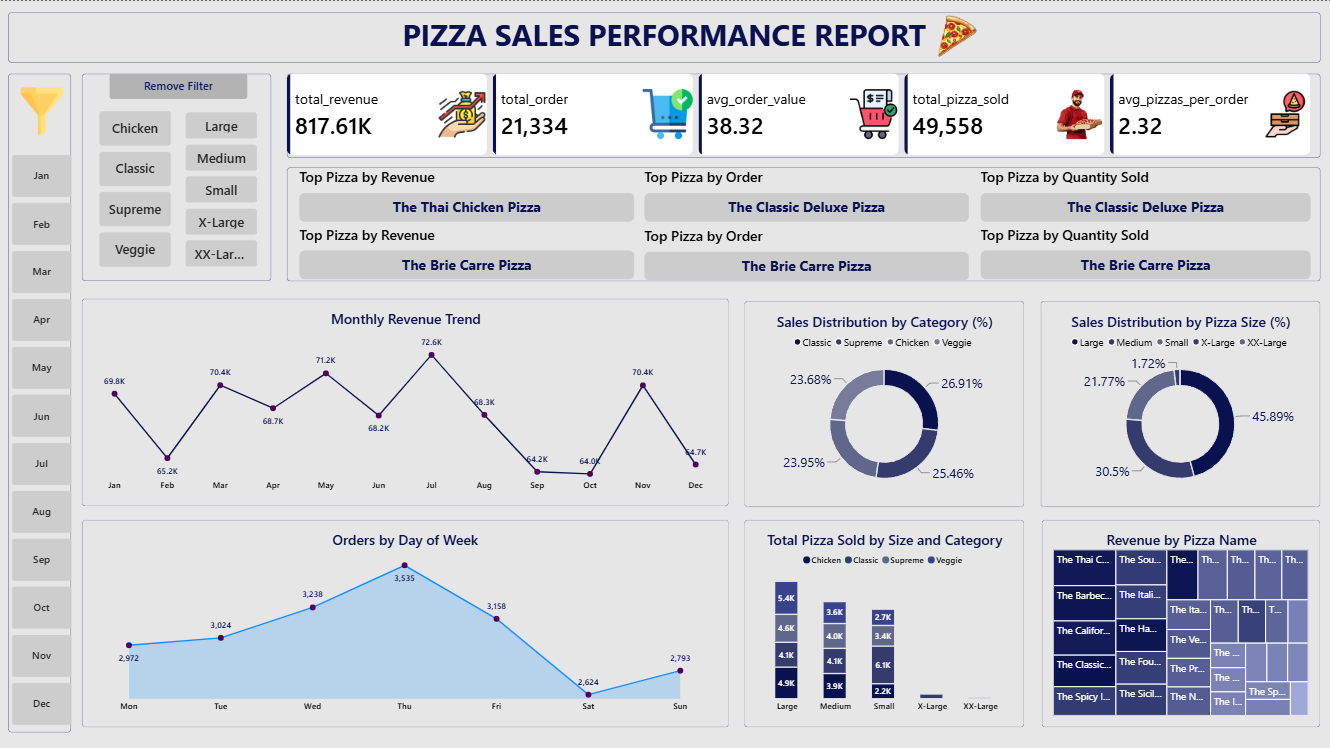

What the dashboard file says about the page in this screenshot:
{"tool":"powerbi","page":{"name":"Dashboard","canvas":[1920,1080],"ordinal":0},"visuals":[{"type":"shape","box":[416.7,238.3,1486.7,176.8],"z":0},{"type":"shape","box":[1499.8,430.7,402.5,296.5],"z":1000},{"type":"shape","box":[416,104.5,1486.9,121.6],"z":2000},{"type":"cardVisual","fields":{"Data":["pizza_salse.total_revenue","pizza_salse.total_order","pizza_salse.avg_order_value","pizza_salse.total_pizza_sold","pizza_salse.avg_pizzas_per_order"]},"box":[416.7,104.5,1486.7,121.5],"z":3000},{"type":"shape","box":[14.9,17.1,1888,72.5],"z":4000},{"type":"shape","box":[15.1,103.9,90.9,947.9],"z":5000},{"type":"shape","box":[121.2,103.9,272.7,298.7],"z":6000},{"type":"shape","box":[121.2,428.5,930.6,298.7],"z":7000},{"type":"shape","box":[124.5,753.4,930.2,298.3],"z":8000},{"type":"shape","box":[1073.4,430.7,402.5,296.5],"z":9000},{"type":"shape","box":[1073.2,751.8,402.8,298.3],"z":10000},{"type":"shape","box":[1502.1,753.4,399.7,299.8],"z":11000},{"type":"lineChart","title":"Monthly Revenue Trend","fields":{"Y":["pizza_salse.total_revenue"],"Category":["pizza_salse.Month Name"]},"box":[129.1,438.2,914.8,278.3],"z":12000},{"type":"lineChart","title":"Orders by Day of Week ","fields":{"Y":["pizza_salse.total_order"],"Category":["pizza_salse.Day Name"]},"box":[133.8,761.1,911.7,282.9],"z":13000},{"type":"donutChart","title":"Sales Distribution by Category (%)","fields":{"Category":["pizza_salse.pizza_category"],"Y":["pizza_salse.total_revenue"]},"box":[1079.3,439.7,392.1,279.8],"z":14000},{"type":"donutChart","title":"Sales Distribution by Pizza Size (%)","fields":{"Y":["pizza_salse.total_revenue"],"Category":["pizza_salse.pizza_size"]},"box":[1508.3,438.2,389,284.4],"z":15000},{"type":"columnChart","title":"Total Pizza Sold by Size and Category","fields":{"Category":["pizza_salse.pizza_size"],"Y":["pizza_salse.total_pizza_sold"],"Series":["pizza_salse.pizza_category"]},"box":[1080.8,762.6,387.4,278.3],"z":16000},{"type":"treemap","title":"Revenue by Pizza Name","fields":{"Group":["pizza_salse.pizza_name"],"Values":["pizza_salse.total_revenue"]},"box":[1511.3,761.1,381.3,282.9],"z":17000},{"type":"advancedSlicerVisual","title":"Top Pizza by Revenue","fields":{"Values":["pizza_salse.pizza_name"]},"box":[433.6,238.3,481.2,78.4],"z":18000},{"type":"advancedSlicerVisual","title":"Top Pizza by Revenue","fields":{"Values":["pizza_salse.pizza_name"]},"box":[433.6,327.5,481.2,73.8],"z":19000},{"type":"advancedSlicerVisual","title":"Top Pizza by Order","fields":{"Values":["pizza_salse.pizza_name"]},"box":[930.2,238.3,467.4,78.4],"z":20000},{"type":"advancedSlicerVisual","title":"Top Pizza by Order","fields":{"Values":["pizza_salse.pizza_name"]},"box":[930.2,327.5,467.4,75.3],"z":21000},{"type":"advancedSlicerVisual","title":"Top Pizza by Quantity Sold","fields":{"Values":["pizza_salse.pizza_name"]},"box":[1412.9,238.3,475.1,78.4],"z":22000},{"type":"advancedSlicerVisual","title":"Top Pizza by  Quantity Sold","fields":{"Values":["pizza_salse.pizza_name"]},"box":[1412.9,327.5,475.1,73.8],"z":23000},{"type":"advancedSlicerVisual","fields":{"Values":["pizza_salse.Month Name"]},"box":[26.1,221.4,69.2,830.2],"z":24000},{"type":"advancedSlicerVisual","fields":{"Values":["pizza_salse.pizza_category"]},"box":[142.6,157.3,105.8,226.3],"z":25000},{"type":"advancedSlicerVisual","fields":{"Values":["pizza_salse.pizza_size"]},"box":[270.5,160.1,103.9,222.9],"z":26000},{"type":"actionButton","box":[159.9,104.5,199.9,40],"z":27000},{"type":"image","box":[15.4,123,90.7,69.2],"z":28000},{"type":"textbox","box":[15.1,17.3,1887.1,73.6],"z":29000},{"type":"image","box":[1316,16.2,124,70.1],"z":30000}]}

Visuals, with their boxes in screenshot pixels (x1, y1, x2, y2), scaled from the page's 1920x1080 canvas onto the 1330x748 screenshot:
shape: [x1=289, y1=165, x2=1319, y2=287]
shape: [x1=1039, y1=298, x2=1318, y2=504]
shape: [x1=288, y1=72, x2=1318, y2=157]
cardVisual - pizza_salse.total_revenue x pizza_salse.total_order: [x1=289, y1=72, x2=1319, y2=157]
shape: [x1=10, y1=12, x2=1318, y2=62]
shape: [x1=10, y1=72, x2=73, y2=728]
shape: [x1=84, y1=72, x2=273, y2=279]
shape: [x1=84, y1=297, x2=729, y2=504]
shape: [x1=86, y1=522, x2=731, y2=728]
shape: [x1=744, y1=298, x2=1022, y2=504]
shape: [x1=743, y1=521, x2=1022, y2=727]
shape: [x1=1041, y1=522, x2=1317, y2=729]
"Monthly Revenue Trend" lineChart: [x1=89, y1=303, x2=723, y2=496]
"Orders by Day of Week " lineChart: [x1=93, y1=527, x2=724, y2=723]
"Sales Distribution by Category (%)" donutChart: [x1=748, y1=305, x2=1019, y2=498]
"Sales Distribution by Pizza Size (%)" donutChart: [x1=1045, y1=303, x2=1314, y2=500]
"Total Pizza Sold by Size and Category" columnChart: [x1=749, y1=528, x2=1017, y2=721]
"Revenue by Pizza Name" treemap: [x1=1047, y1=527, x2=1311, y2=723]
"Top Pizza by Revenue" advancedSlicerVisual: [x1=300, y1=165, x2=634, y2=219]
"Top Pizza by Revenue" advancedSlicerVisual: [x1=300, y1=227, x2=634, y2=278]
"Top Pizza by Order" advancedSlicerVisual: [x1=644, y1=165, x2=968, y2=219]
"Top Pizza by Order" advancedSlicerVisual: [x1=644, y1=227, x2=968, y2=279]
"Top Pizza by Quantity Sold" advancedSlicerVisual: [x1=979, y1=165, x2=1308, y2=219]
"Top Pizza by  Quantity Sold" advancedSlicerVisual: [x1=979, y1=227, x2=1308, y2=278]
advancedSlicerVisual - pizza_salse.Month Name: [x1=18, y1=153, x2=66, y2=728]
advancedSlicerVisual - pizza_salse.pizza_category: [x1=99, y1=109, x2=172, y2=266]
advancedSlicerVisual - pizza_salse.pizza_size: [x1=187, y1=111, x2=259, y2=265]
actionButton: [x1=111, y1=72, x2=249, y2=100]
image: [x1=11, y1=85, x2=73, y2=133]
textbox: [x1=10, y1=12, x2=1318, y2=63]
image: [x1=912, y1=11, x2=998, y2=60]
